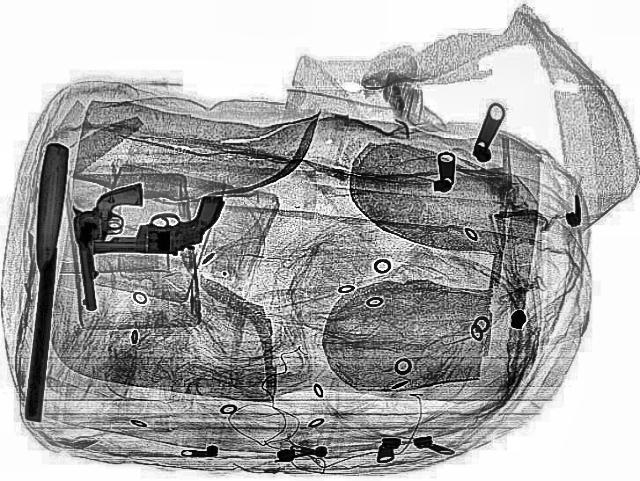Gun: (60, 182, 162, 310), (88, 193, 226, 257)
Knife: (15, 142, 70, 420)
